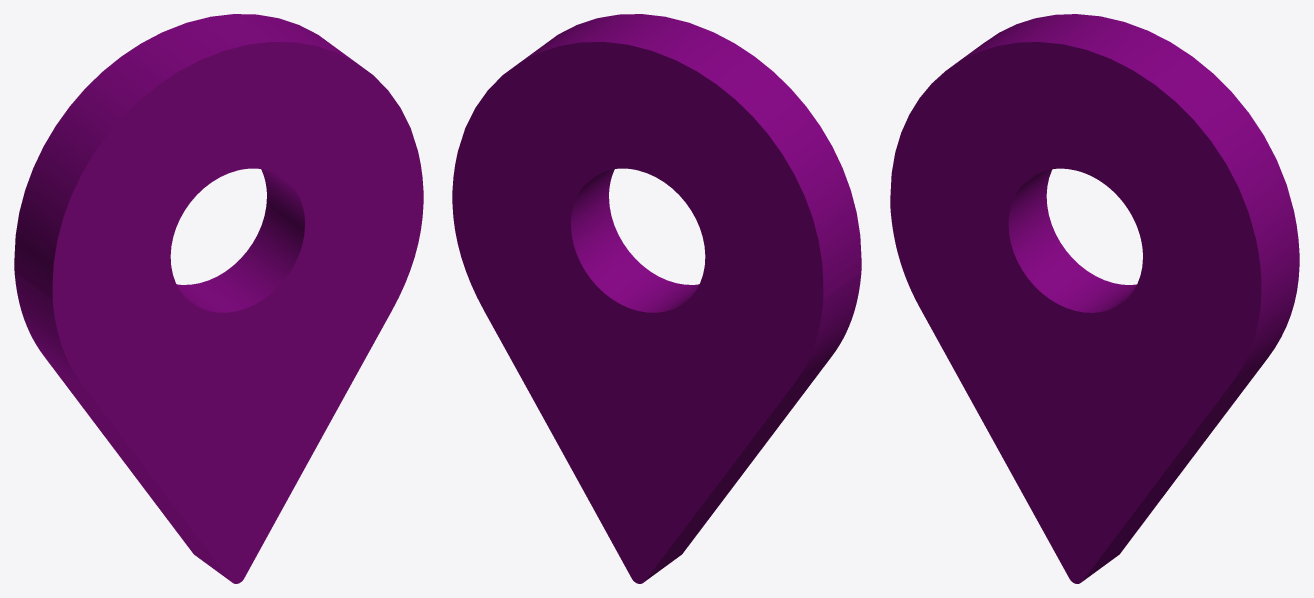
Rendered from PositionPin.fbx.
3 renders of one model, left to right at view 1: azimuth 30°, elevation 25°; view 2: azimuth 150°, elevation 25°; view 3: azimuth 330°, elevation 25°, orthographic.
Parts seen in each view (by area): view 1: Position pin; view 2: Position pin; view 3: Position pin.
Part boxes in pixels (box(x1,y1,x2,y2)): Position pin: box(14, 14, 423, 583); Position pin: box(452, 14, 861, 583); Position pin: box(890, 14, 1299, 583).
Size of the model in its own units: 118 by 163 by 21.
